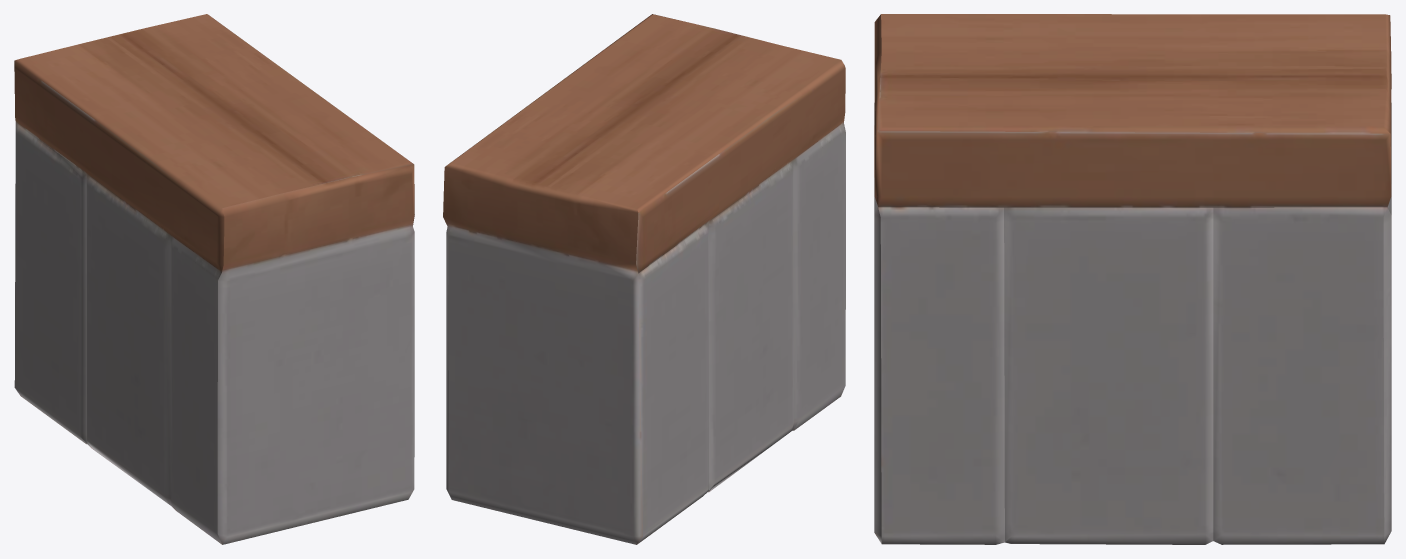
File: perch_seat.glb
3 renders of one model, left to right at view 1: azimuth 30°, elevation 25°; view 2: azimuth 150°, elevation 25°; view 3: azimuth 270°, elevation 25°, orthographic. The views are drawn at different scales.
Visible parts, largest first — view 1: body; view 2: body; view 3: body.
Part boxes in pixels (box(x1,y1,x2,y2)): body: box(14, 14, 414, 544); body: box(443, 14, 845, 544); body: box(874, 14, 1391, 544).
Size of the model in its own units: 0.2998 by 0.4897 by 0.5497.
Materials: 1 (1 with a texture image).
